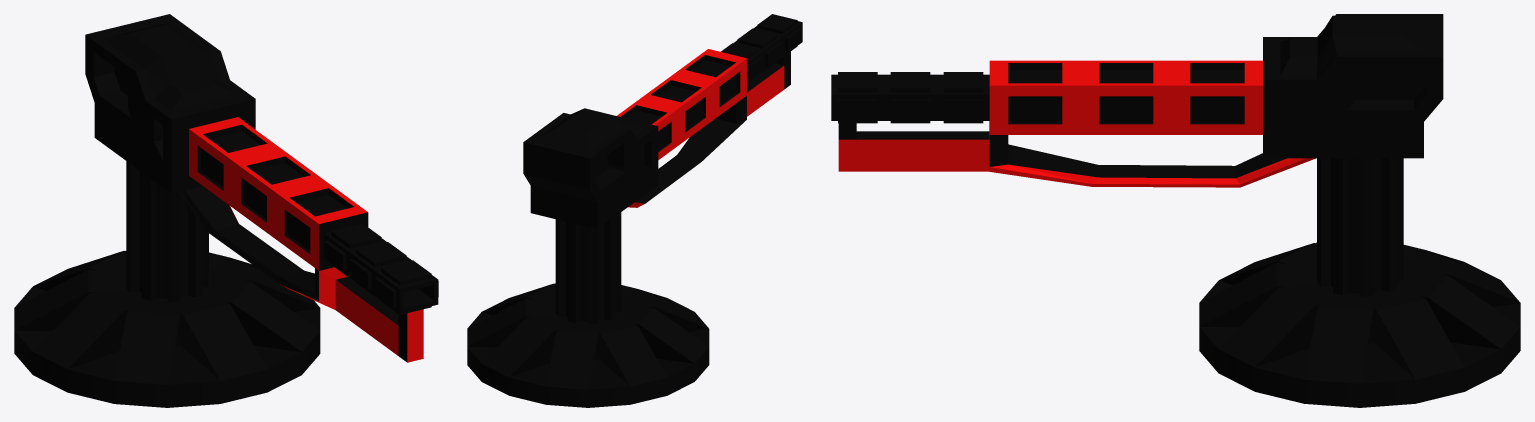
File: Gun.FBX
The picture shows the model from 3 angles, left to right: view 1: azimuth 30°, elevation 25°; view 2: azimuth 150°, elevation 25°; view 3: azimuth 270°, elevation 25°; orthographic projection. The views are drawn at different scales.
Parts seen in each view (by area): view 1: Box001, Cylinder001; view 2: Cylinder001, Box001; view 3: Box001, Cylinder001.
Boxes of the visible parts, x1,y1,x2,y2 form: Box001: [85, 14, 438, 362]; Cylinder001: [14, 161, 320, 407]; Cylinder001: [467, 212, 709, 407]; Box001: [523, 14, 802, 229]; Box001: [831, 14, 1443, 187]; Cylinder001: [1199, 158, 1520, 407].
Bounding box in the file's own units: 143 × 152 × 301.
